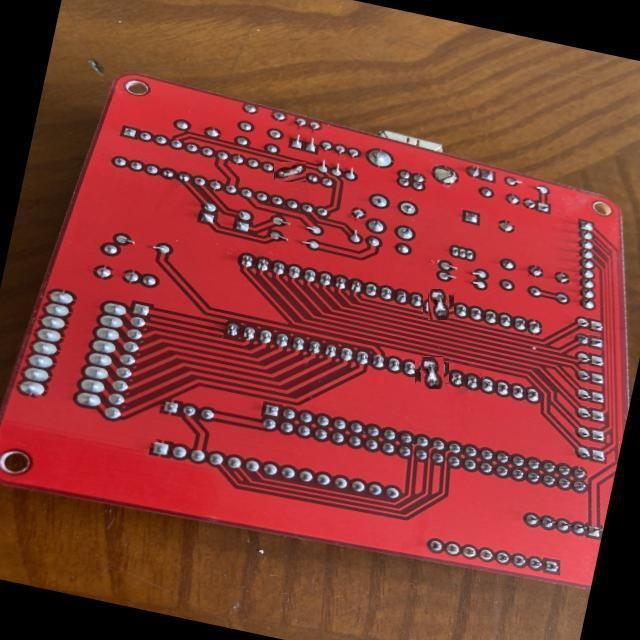damged: (418, 358, 447, 387), (425, 291, 452, 318), (274, 162, 306, 182)
